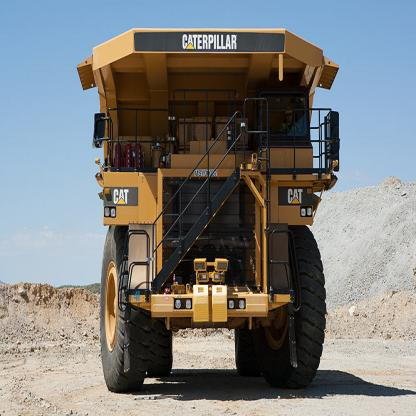dump_truck: (76, 19, 335, 396)
